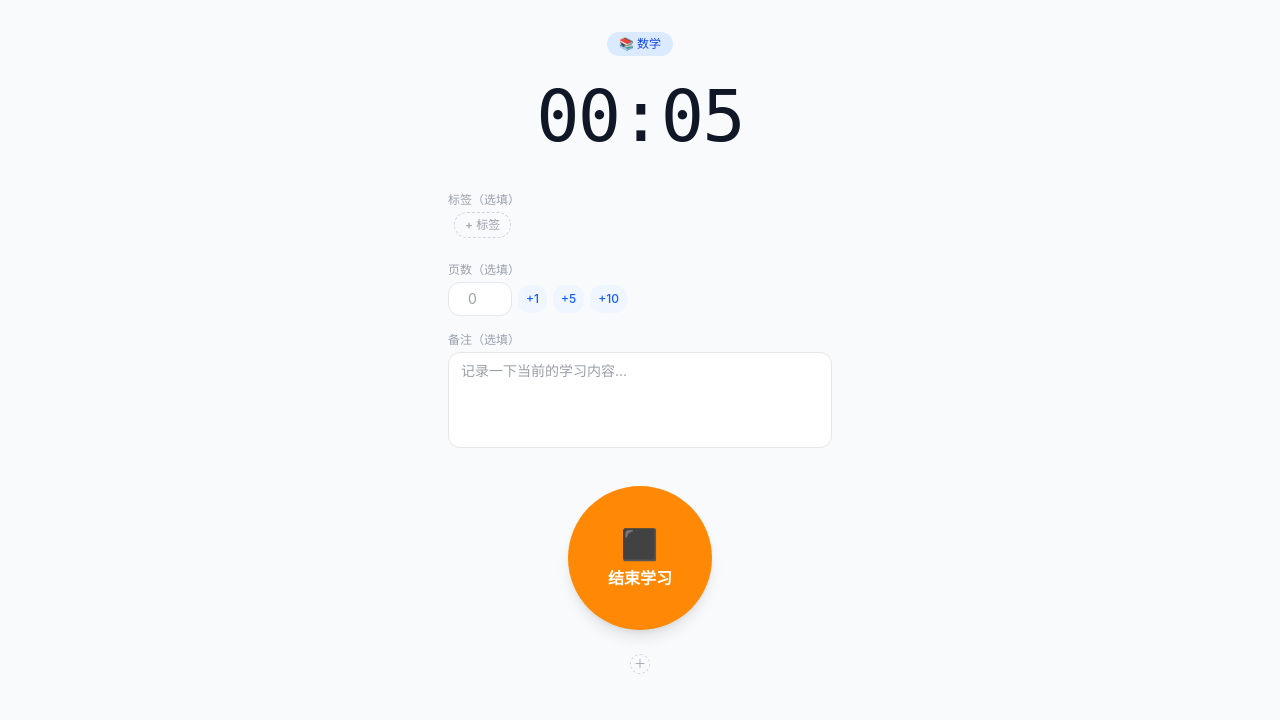
TimerPage › 结束学习 → 确认弹窗 → API 失败 → toast + 待重试记录写入 localStorage
The image size is (1280, 720).
Step 1. Click the text "结束学习" → (640, 578), box [608,566,672,590]
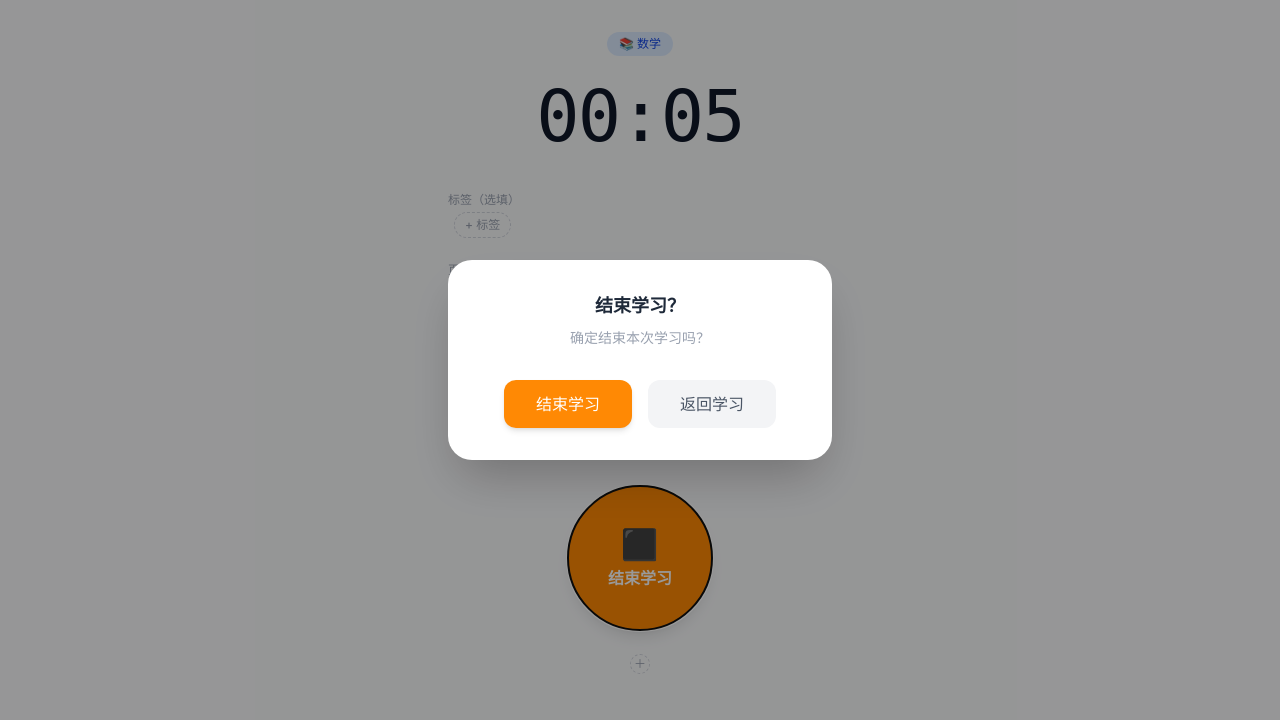
Step 2. Click the button "结束学习" → (568, 404), box [504,380,632,428]
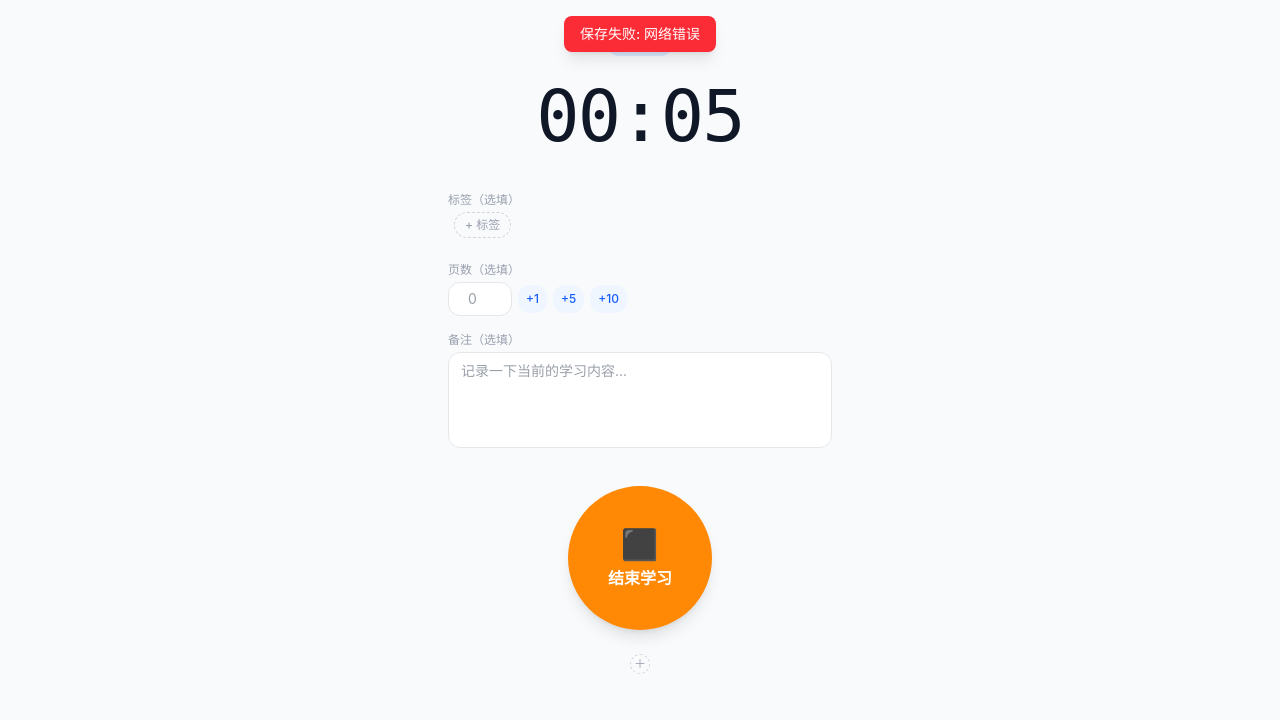
Check: the text "保存失败: 网络错误" is shown, box [564,16,716,52]
